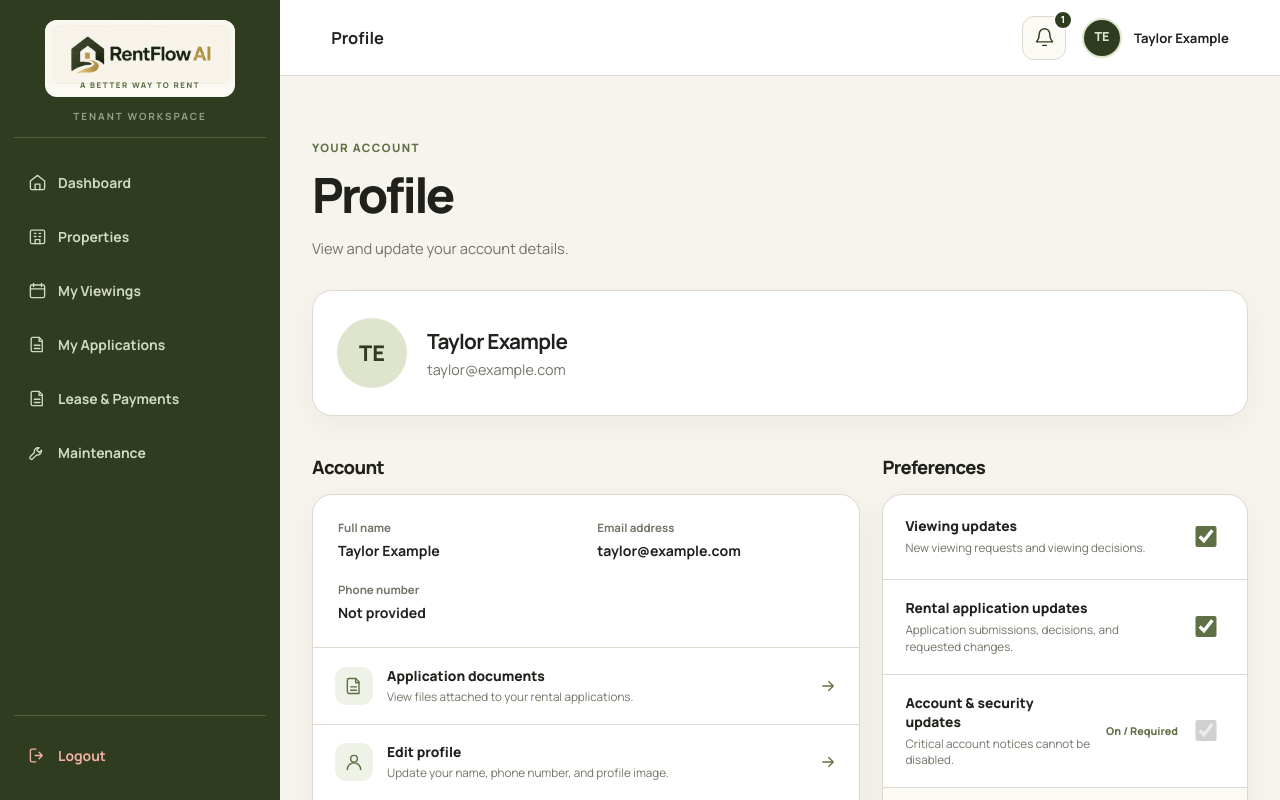
notification bell preview › loads recent recipient-scoped notifications and closes after See all navigation
The image size is (1280, 800).
Step 1. Click the link "1" → (1044, 38), box 1022,16 -> 1066,60
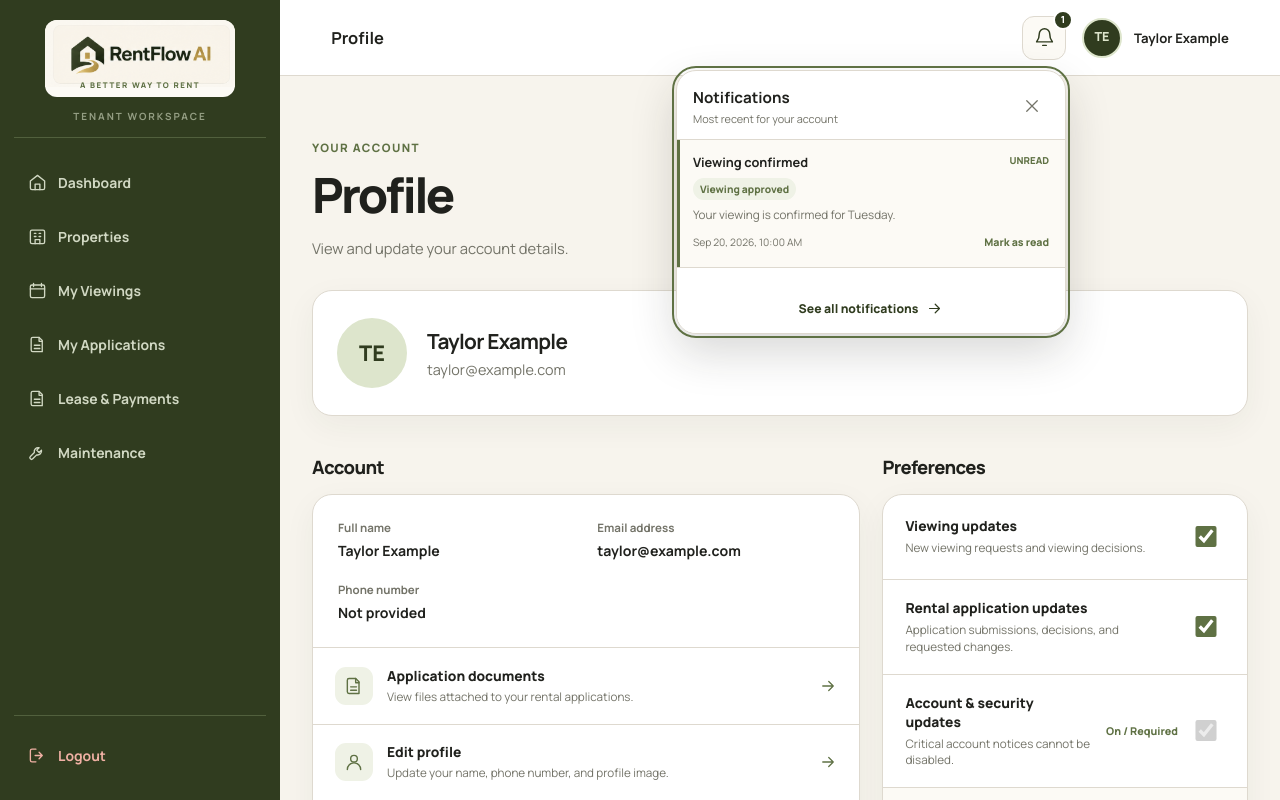
Result: the text "Your viewing is confirmed for Tuesday." is shown at 693,207 -> 895,223
Result: the text "Viewing approved" is shown at 693,178 -> 796,200
Step 2. Click the link "See all notifications" → (871, 308), box 677,284 -> 1065,332
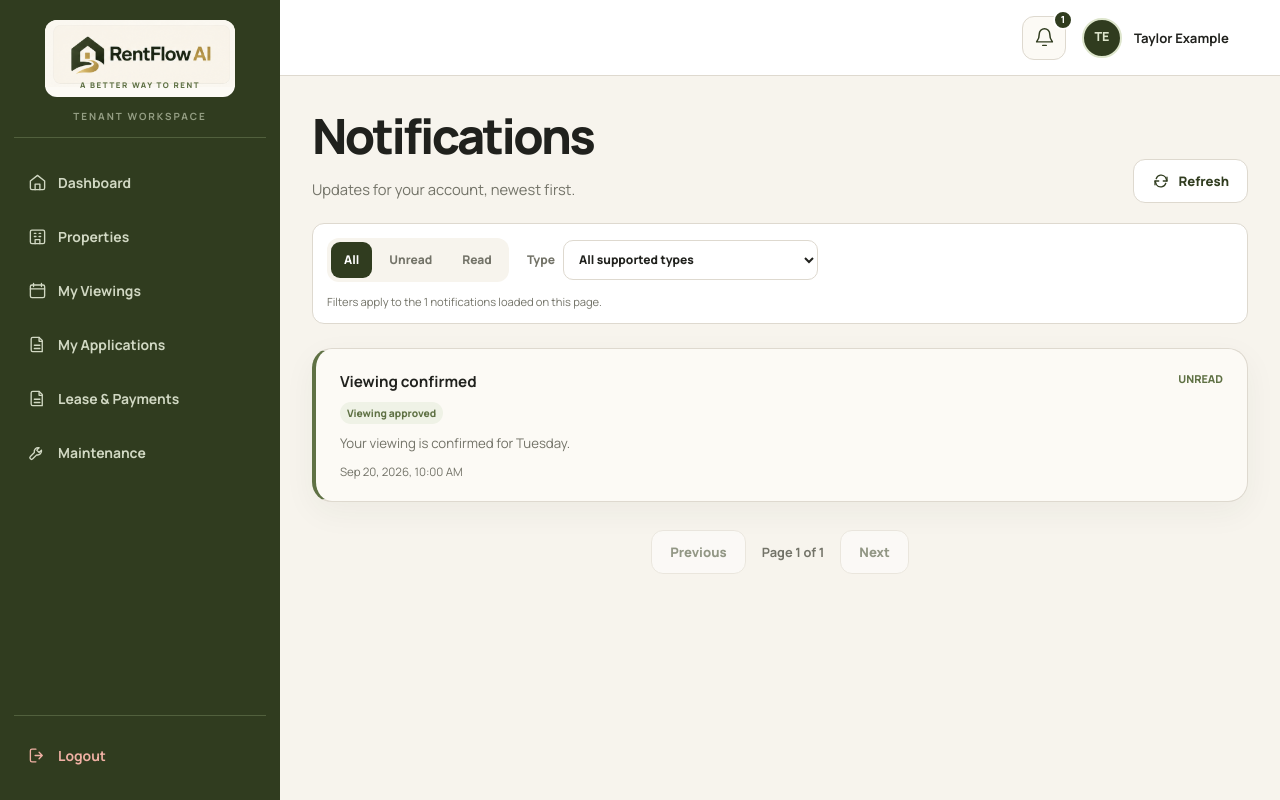
Result: the heading "Notifications" is shown at 312,108 -> 593,165
